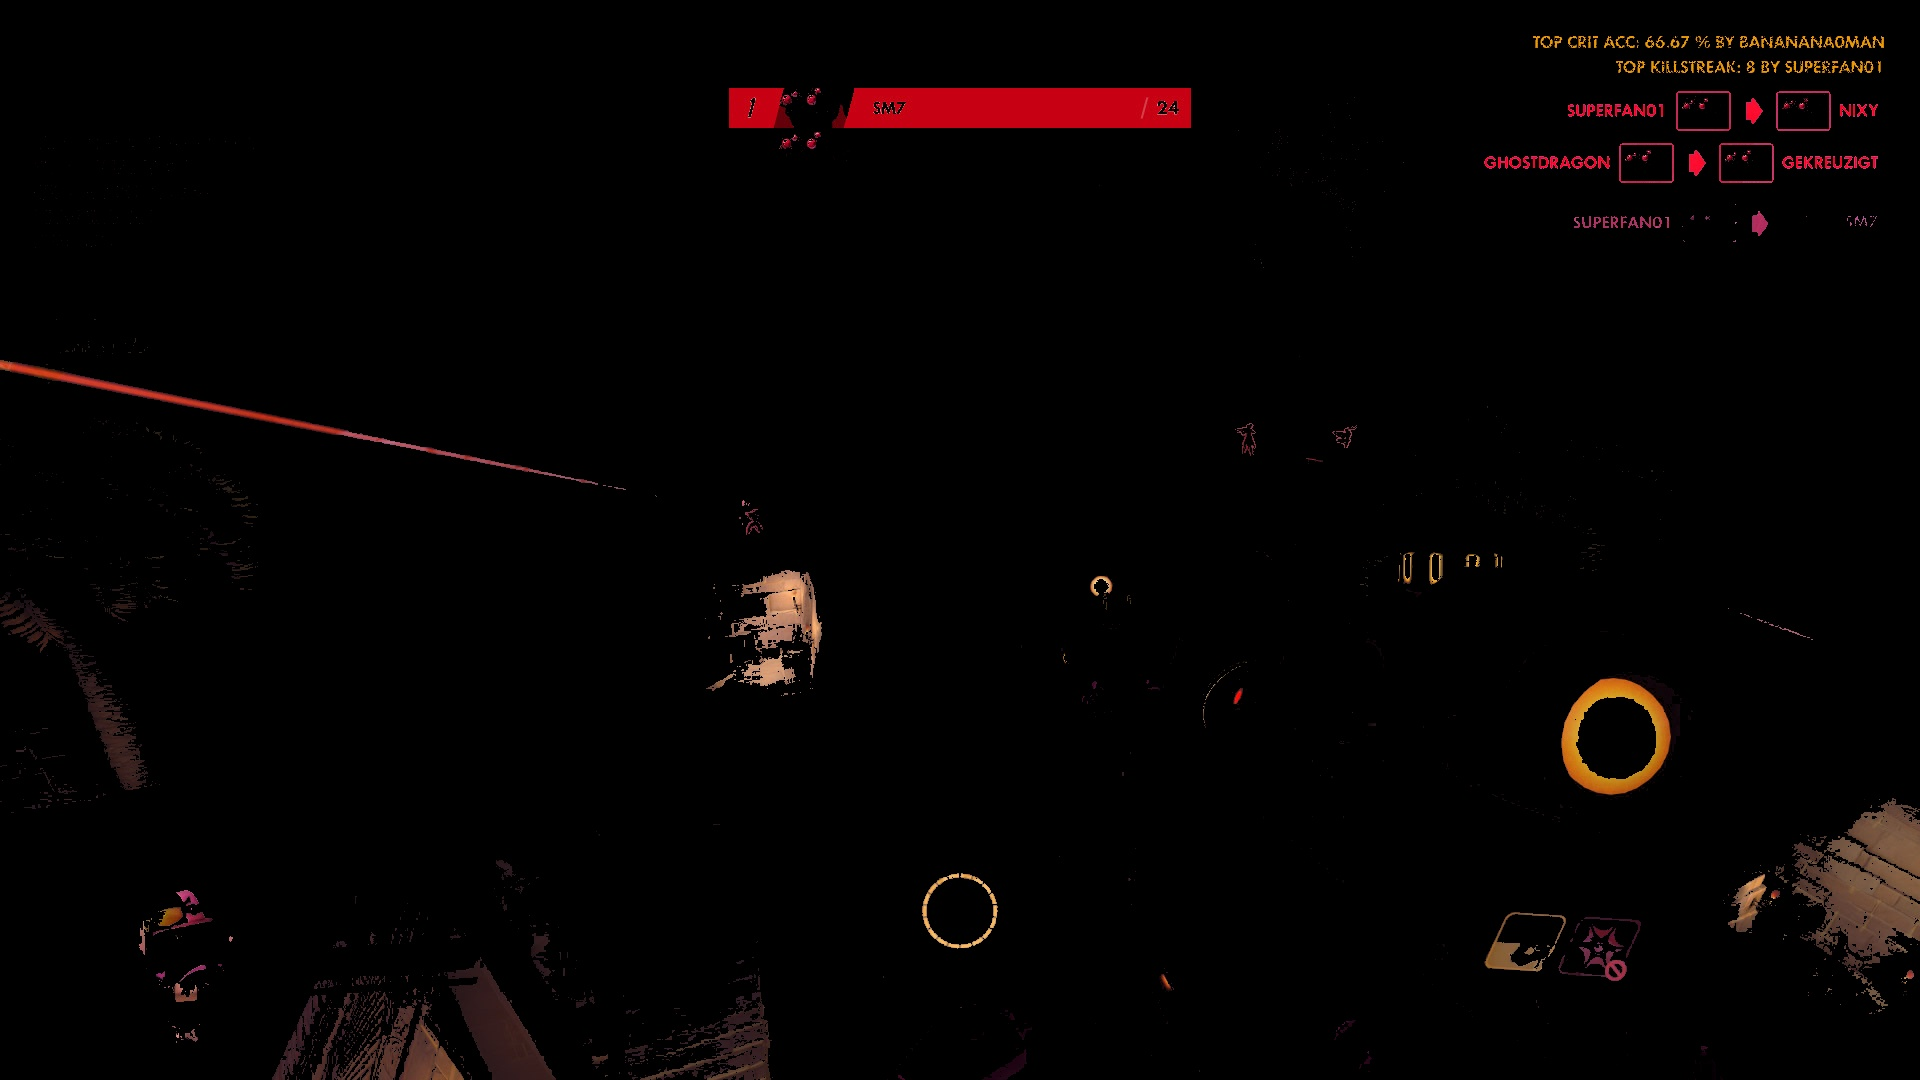widowmaker: (1237, 423, 1258, 458), (745, 509, 764, 539), (1332, 426, 1353, 448)
